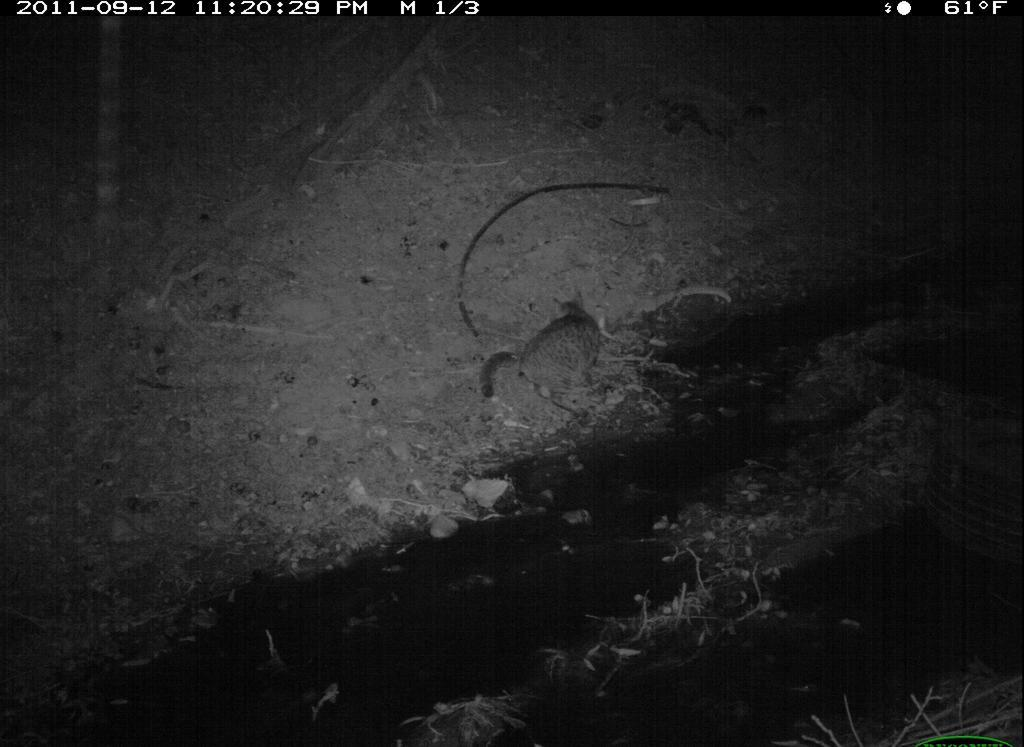cat: (472, 281, 625, 428)
